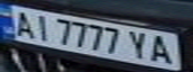7: (103, 25, 127, 56), (51, 16, 75, 45), (84, 22, 106, 52), (66, 19, 87, 48)
A: (145, 33, 178, 65), (6, 8, 39, 38)
I: (30, 11, 54, 42)
Y: (124, 28, 154, 61)
